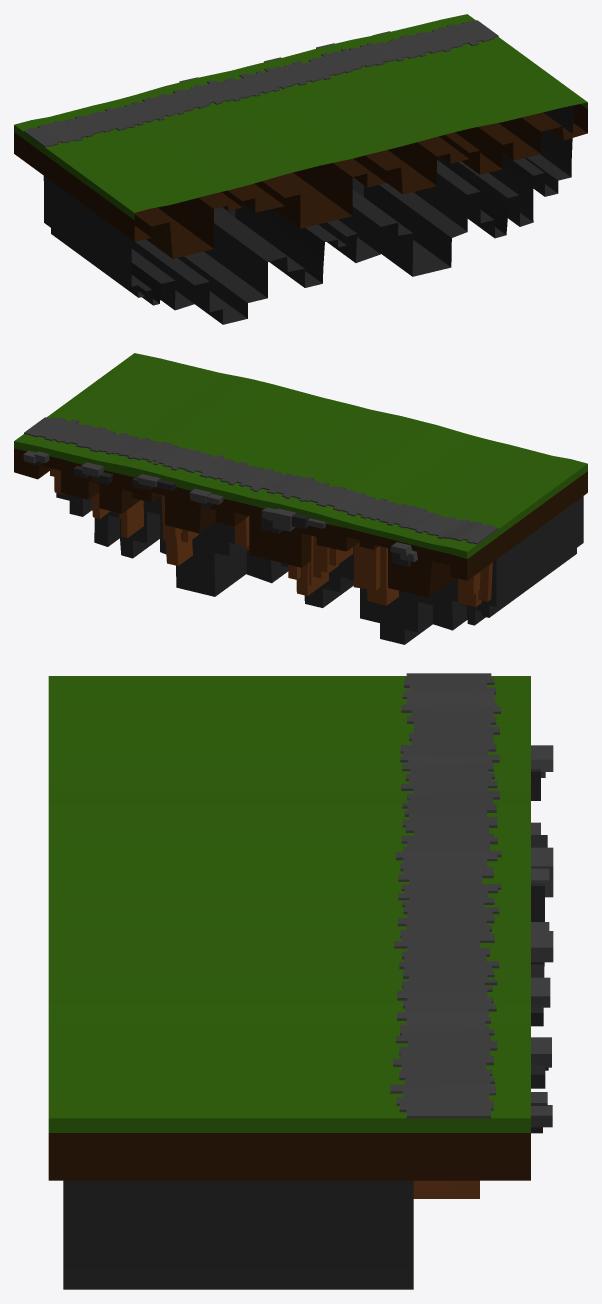
The model's file is Floating_Island001.FBX.
The picture shows the model from 3 angles, top to bottom: view 1: azimuth 30°, elevation 25°; view 2: azimuth 150°, elevation 25°; view 3: azimuth 270°, elevation 25°; orthographic projection. The views are drawn at different scales.
Visible parts, largest first — view 1: Platform_Walkway_Grass, Rocks_Bottom, Road002; view 2: Platform_Walkway_Grass, Rocks_Bottom, Road002, Rocks_Base2, Rocks_Base3, Rocks_Base5, Rocks5, Rocks_Base1, Rocks_Base6, Rocks2, Rocks6, Rocks3 (+2 smaller); view 3: Platform_Walkway_Grass, Road002, Rocks_Bottom, Rocks5, Rocks_Base8, Rocks3, Rocks2, Rocks6, Rocks4, Rocks1.
Part boxes in pixels (<box>): Platform_Walkway_Grass: <box>14,14,587,258</box>; Rocks_Bottom: <box>44,105,573,324</box>; Road002: <box>24,20,498,147</box>; Platform_Walkway_Grass: <box>14,353,587,597</box>; Rocks_Bottom: <box>56,493,583,644</box>; Road002: <box>24,417,498,544</box>; Rocks_Base2: <box>353,542,398,605</box>; Rocks_Base3: <box>288,535,353,595</box>; Rocks_Base5: <box>161,495,198,565</box>; Rocks5: <box>261,507,326,533</box>; Rocks_Base1: <box>458,562,492,606</box>; Rocks_Base6: <box>119,500,143,538</box>; Rocks2: <box>73,462,112,484</box>; Rocks6: <box>390,542,417,566</box>; Rocks3: <box>132,474,176,490</box>; Platform_Walkway_Grass: <box>48,676,530,1180</box>; Road002: <box>390,673,501,1118</box>; Rocks_Bottom: <box>63,1180,413,1289</box>; Rocks5: <box>531,822,553,921</box>; Rocks_Base8: <box>413,1180,479,1198</box>; Rocks3: <box>531,964,550,1026</box>; Rocks2: <box>531,1037,551,1088</box>; Rocks6: <box>531,745,553,800</box>; Rocks4: <box>531,922,553,966</box>; Rocks1: <box>531,1092,552,1133</box>.
Size of the model in its own units: 2276 by 676 by 1096.
